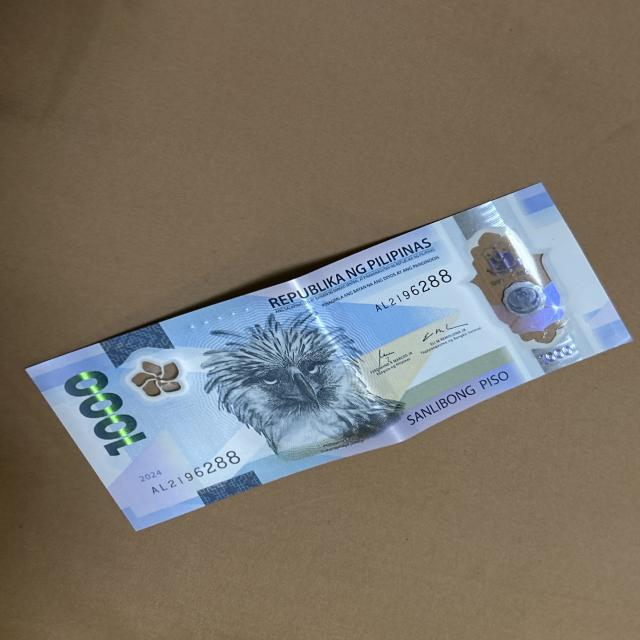clear_window: (462, 234, 569, 342)
eagle: (212, 323, 414, 454)
sampaguita: (123, 361, 188, 396)
